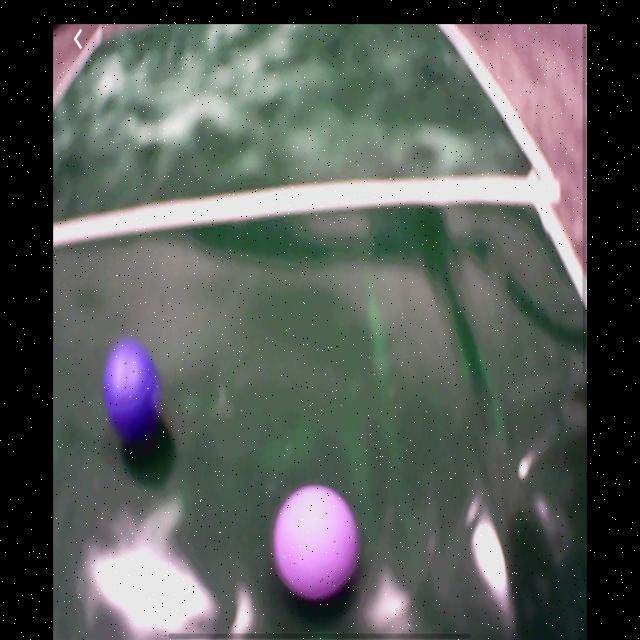ball: (272, 484, 361, 600), (105, 342, 163, 439)
